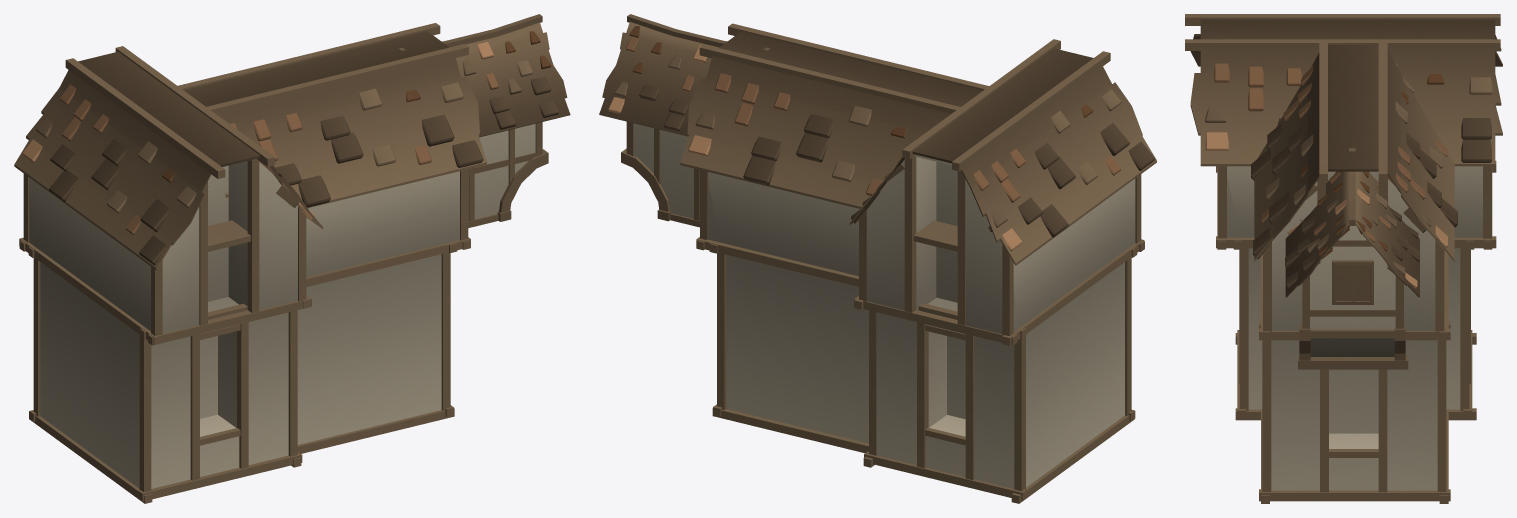
Rendered from ZLP_Build_A_4.FBX.
3 renders of one model, left to right at view 1: azimuth 30°, elevation 25°; view 2: azimuth 150°, elevation 25°; view 3: azimuth 270°, elevation 25°, orthographic. The views are drawn at different scales.
Visible parts, largest first — view 1: ZLP_Build_A_4; view 2: ZLP_Build_A_4; view 3: ZLP_Build_A_4.
Boxes of the visible parts, x1=… form: ZLP_Build_A_4: x1=14, y1=14, x2=570, y2=503; ZLP_Build_A_4: x1=599, y1=14, x2=1156, y2=503; ZLP_Build_A_4: x1=1185, y1=14, x2=1502, y2=503.
Bounding box in the file's own units: 1202 × 841 × 689.
